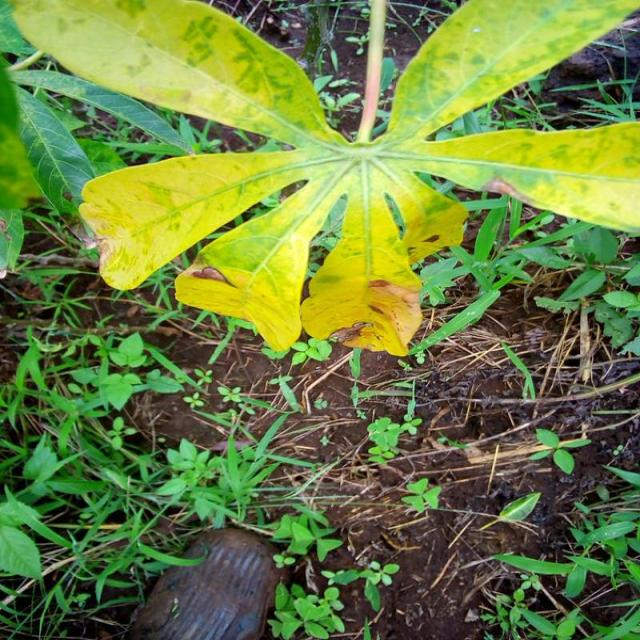cassava leaf: (10, 0, 638, 357)
